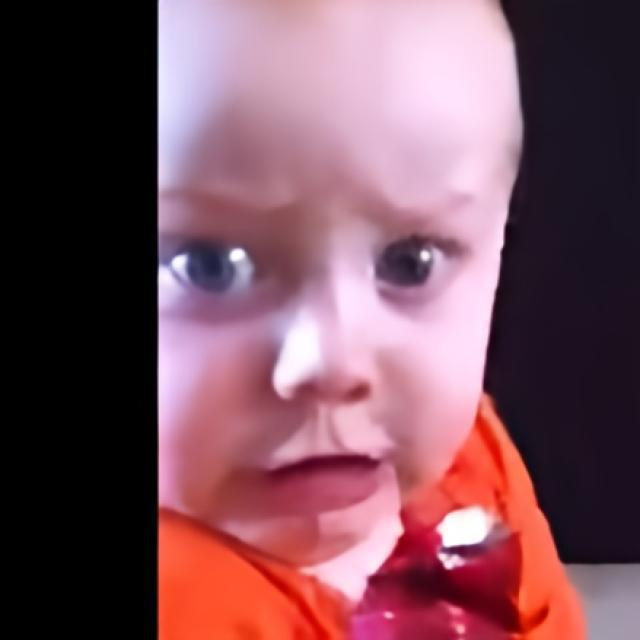fear: (160, 0, 526, 567)
